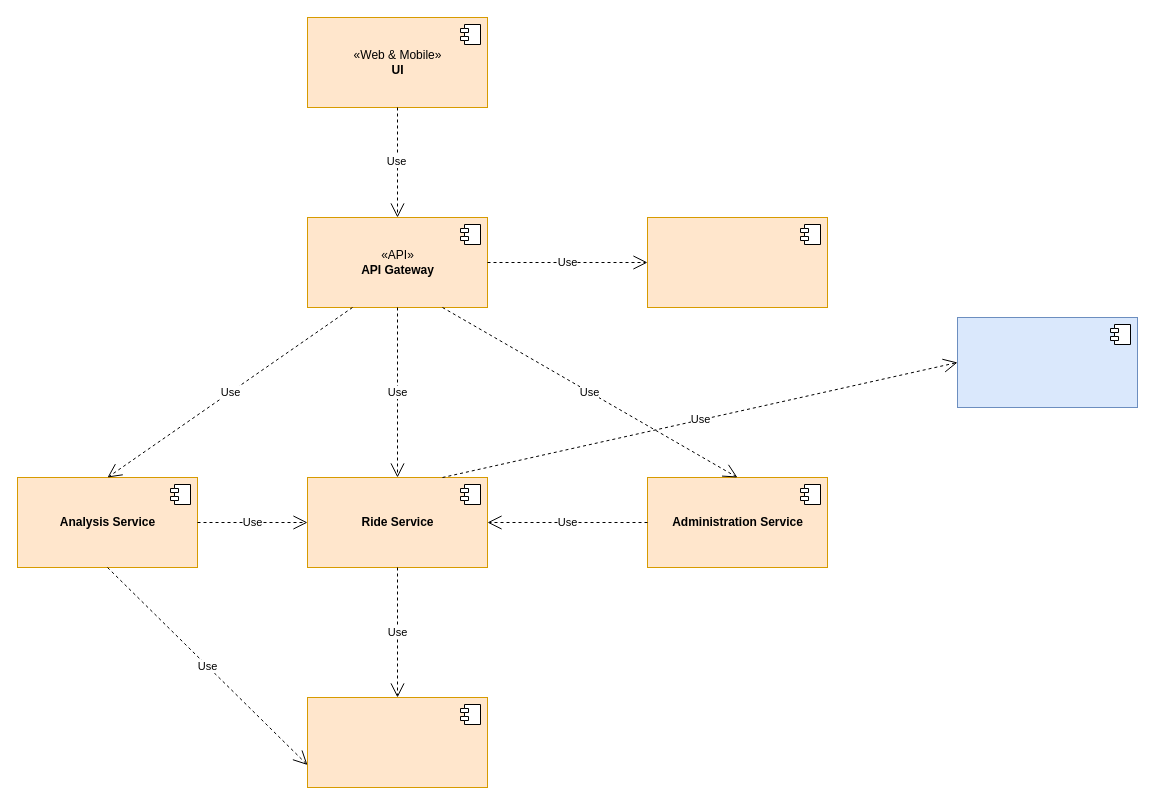
The diagram is 1155 pixels wide and 805 high, and some of its shapes have lost their labels. Each missing label, with the centre of its shape:
Directory Service: [737,262]
Payment Gateway: [1047,362]
Taxi Service: [397,742]
